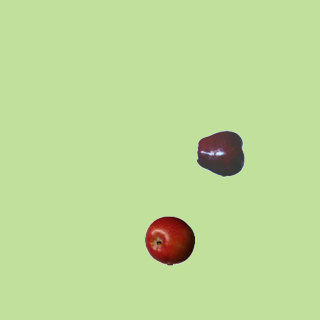Apple Braeburn: (144, 215, 194, 265)
Apple Red Delicious: (196, 128, 246, 178)
